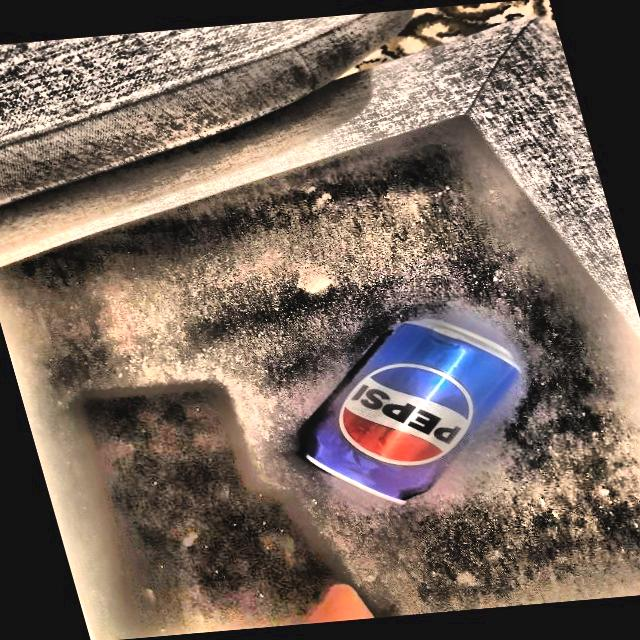pepsi-can: (290, 310, 516, 506)
